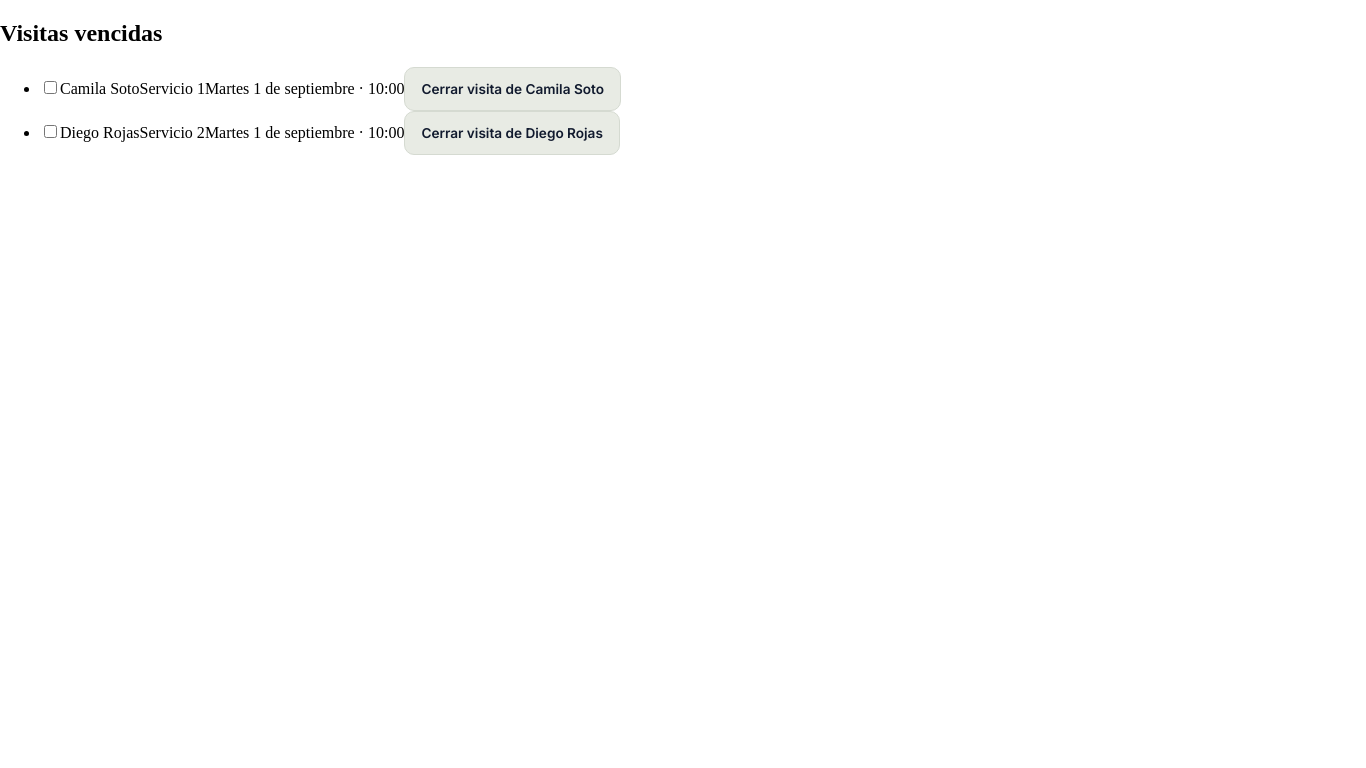
Test: OverdueVisitsPanel › keeps bulk confirmation disabled until one outcome is chosen and previews customers
Click the checkbox named "Seleccionar visita de Camila Soto" at (50, 87), box [44, 81, 57, 94]
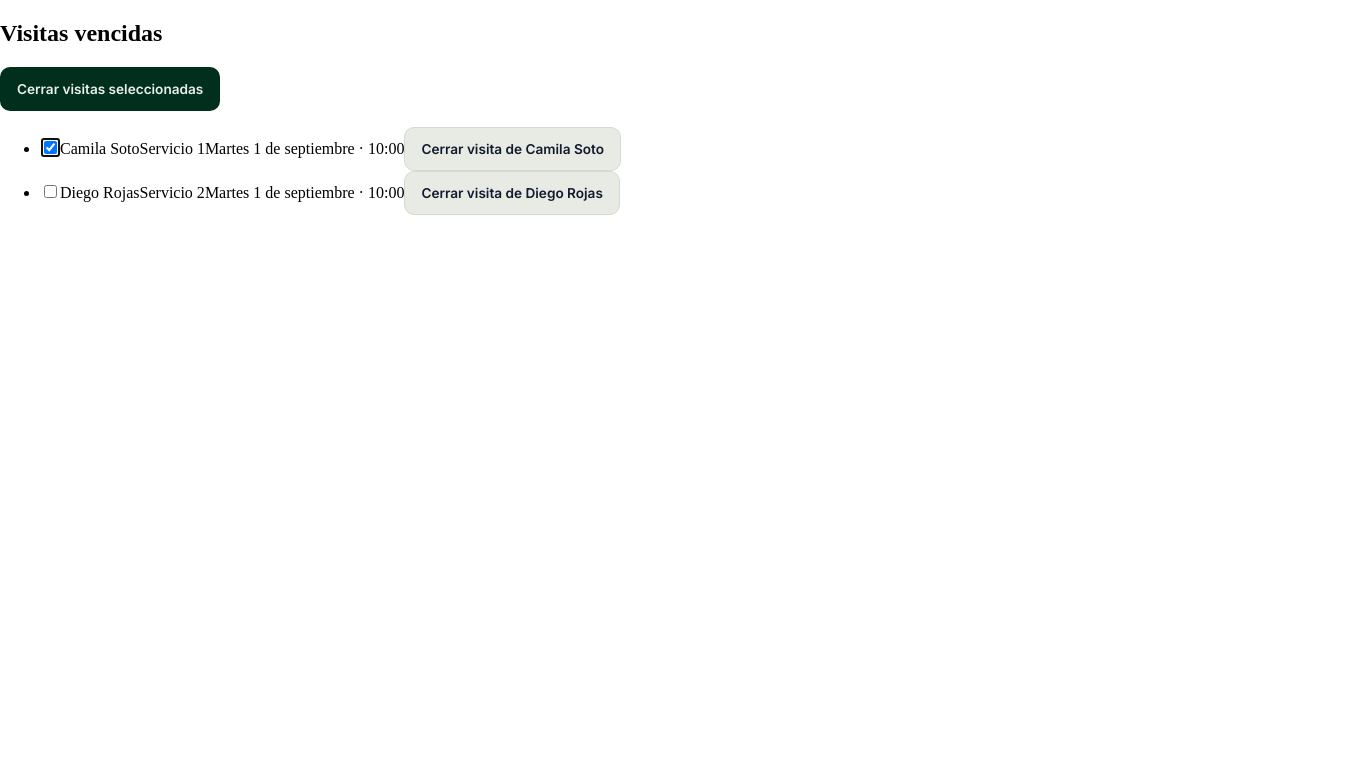
Click the checkbox named "Seleccionar visita de Diego Rojas" at (50, 191), box [44, 185, 57, 198]
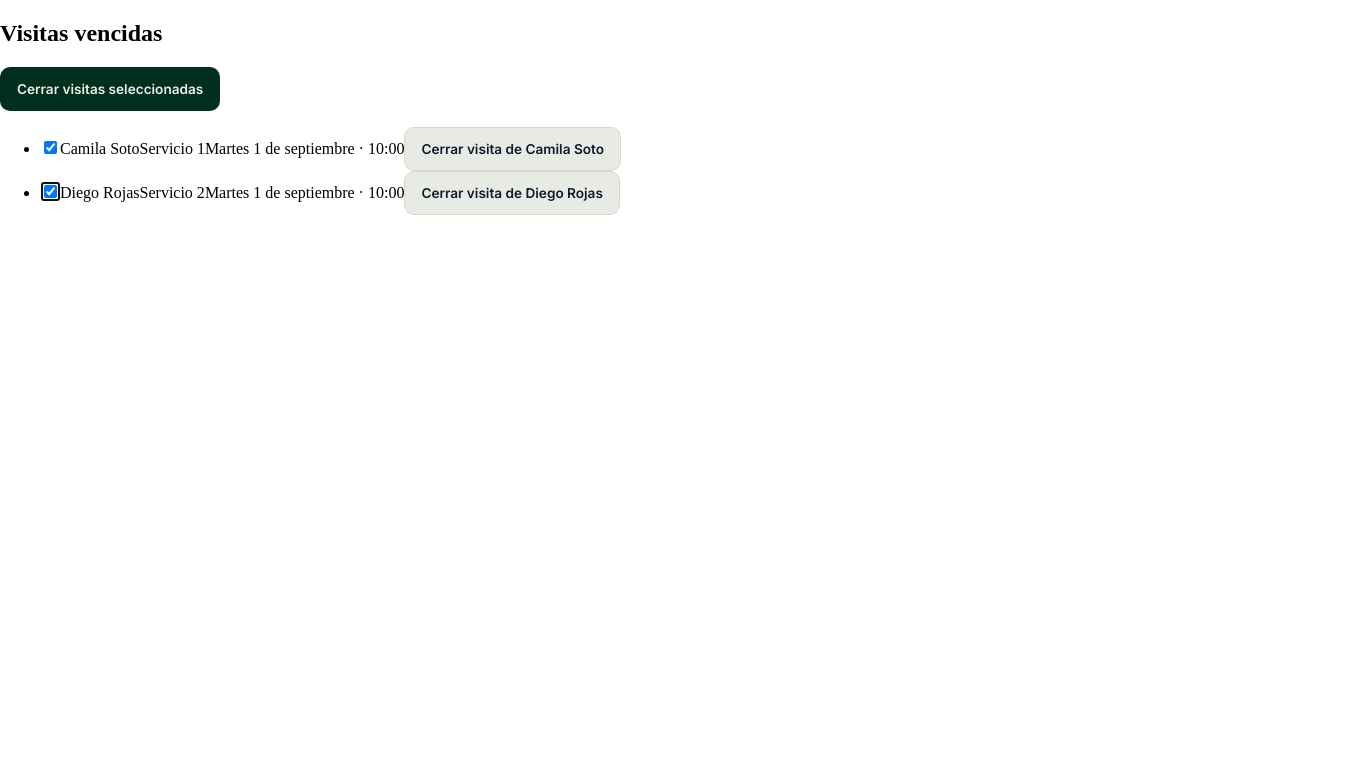
Click the button "Cerrar visitas seleccionadas" at (110, 89), box [0, 67, 220, 111]
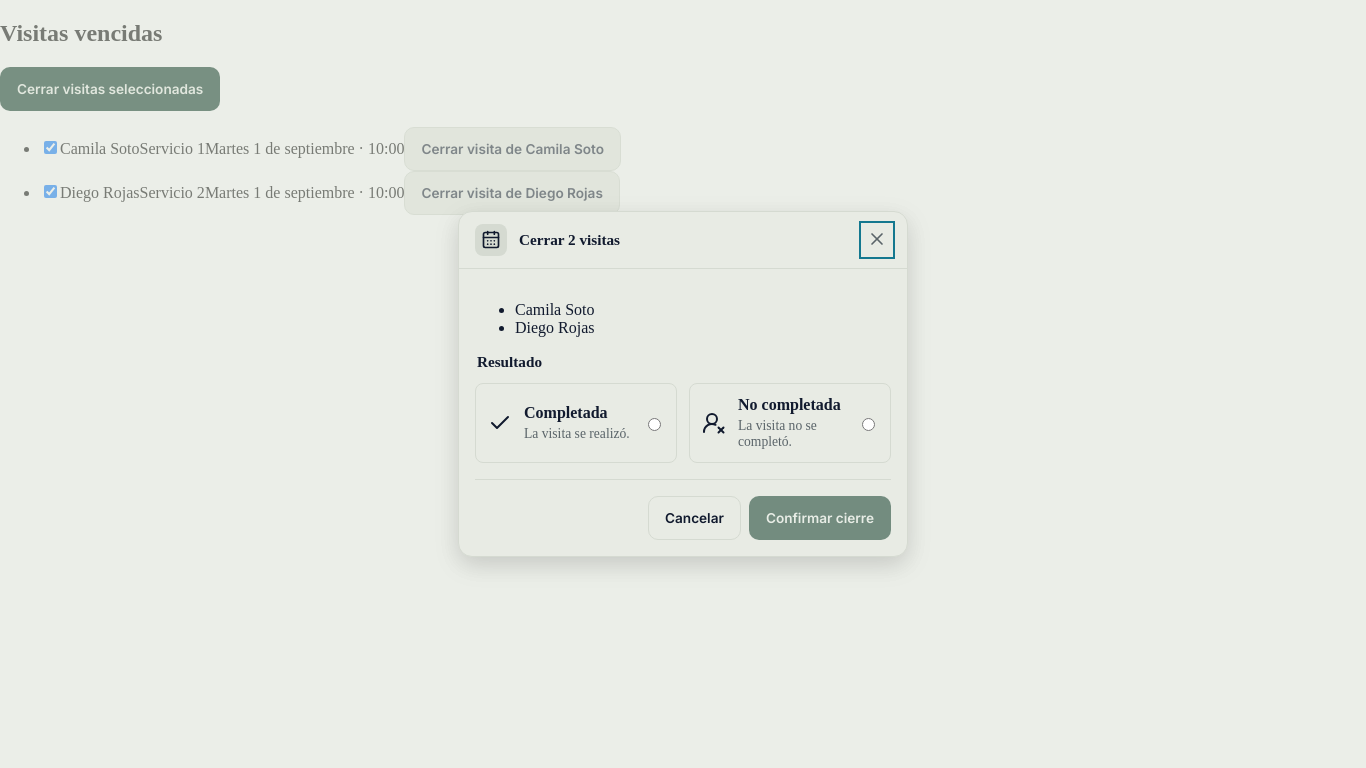
Expected: the dialog "Cerrar 2 visitas" shows "Camila Soto", [515, 301, 595, 318]
Expected: the dialog "Cerrar 2 visitas" shows "Diego Rojas", [515, 319, 594, 336]
Expected: the button "Confirmar cierre" is disabled, [749, 496, 891, 540]
Click the radio button labelled "Completada La visita se realizó." at (654, 424), box [648, 418, 661, 431]
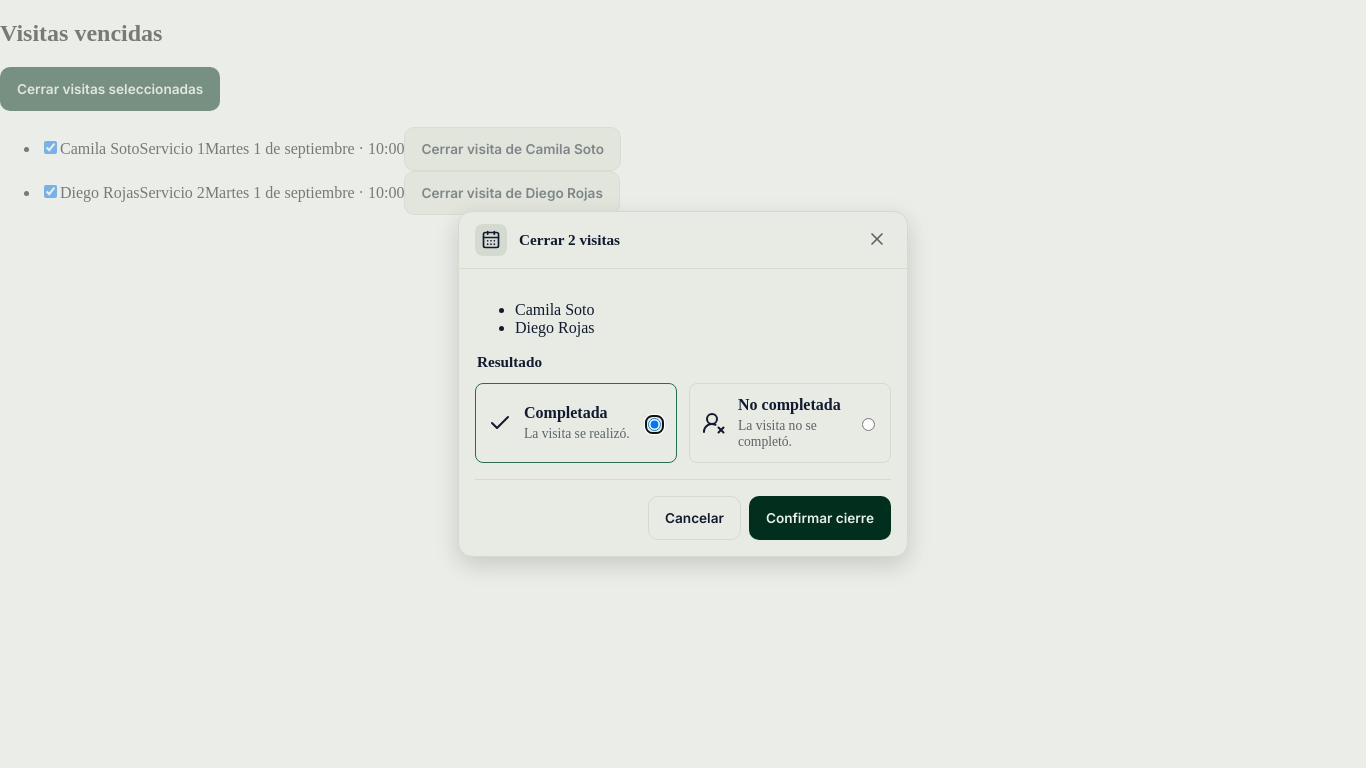
Expected: the button "Confirmar cierre" is enabled, [749, 496, 891, 540]
